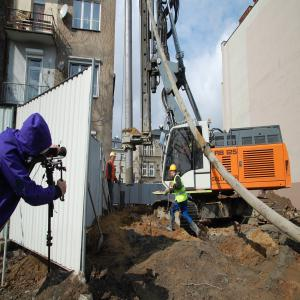none: (23, 115, 52, 165)
yellow: (170, 165, 178, 179), (111, 152, 116, 163)
